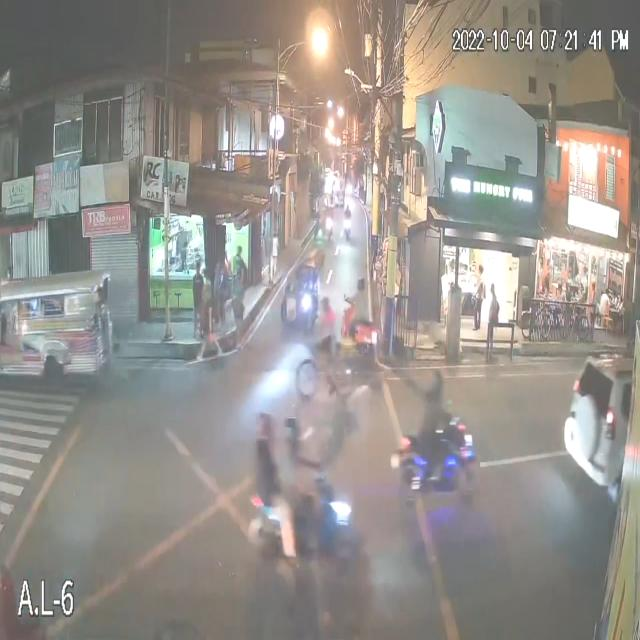Full-Faced: (284, 415, 304, 449), (254, 411, 276, 438)
